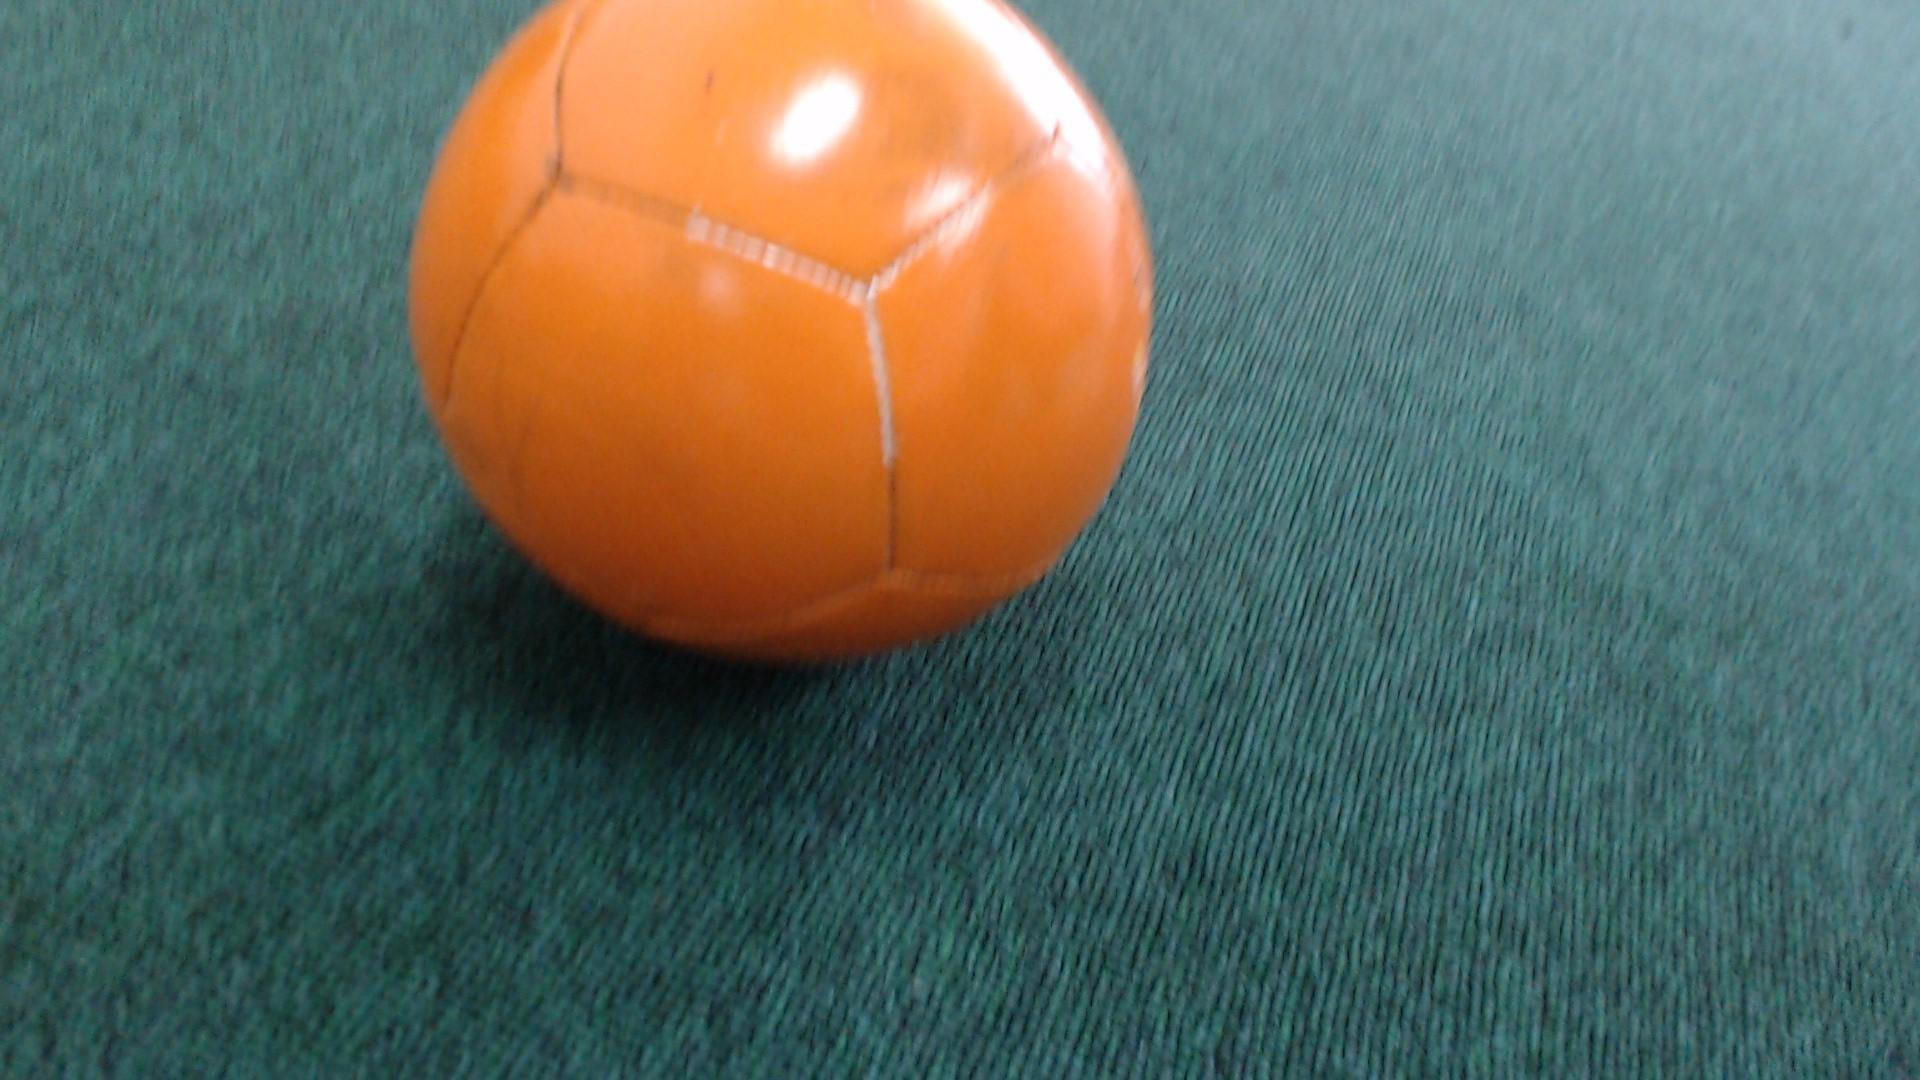bola: (334, 0, 1250, 707)
